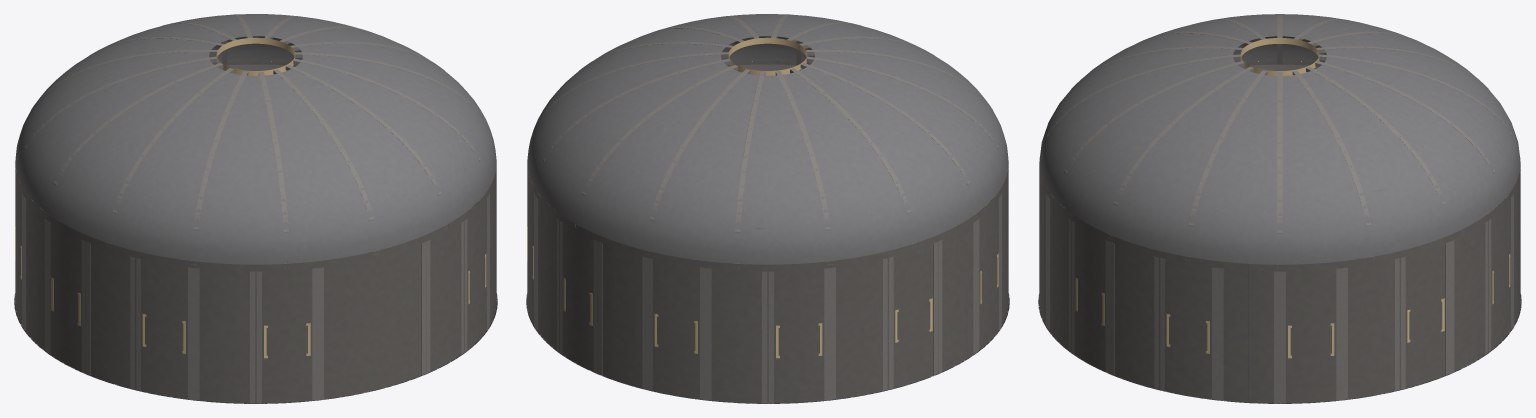
Rendered from heist.glb.
The picture shows the model from 3 angles, left to right: view 1: azimuth 30°, elevation 25°; view 2: azimuth 150°, elevation 25°; view 3: azimuth 270°, elevation 25°; orthographic projection.
Visible parts, largest first — view 1: dome, walls, brass, floor; view 2: dome, walls, brass, floor; view 3: dome, walls, brass, floor.
Part boxes in pixels (x1,y1,x2,y2): dome: (15, 14, 496, 267); walls: (15, 61, 496, 403); brass: (15, 37, 486, 358); floor: (14, 293, 497, 403); dome: (527, 14, 1008, 267); walls: (527, 61, 1008, 403); brass: (527, 37, 998, 358); floor: (526, 293, 1009, 403); dome: (1039, 14, 1520, 268); walls: (1039, 61, 1520, 403); brass: (1075, 38, 1510, 358); floor: (1038, 294, 1521, 403).
Size of the model in its own units: 22.1 by 12.48 by 22.1.
8 materials, 6 textured.
